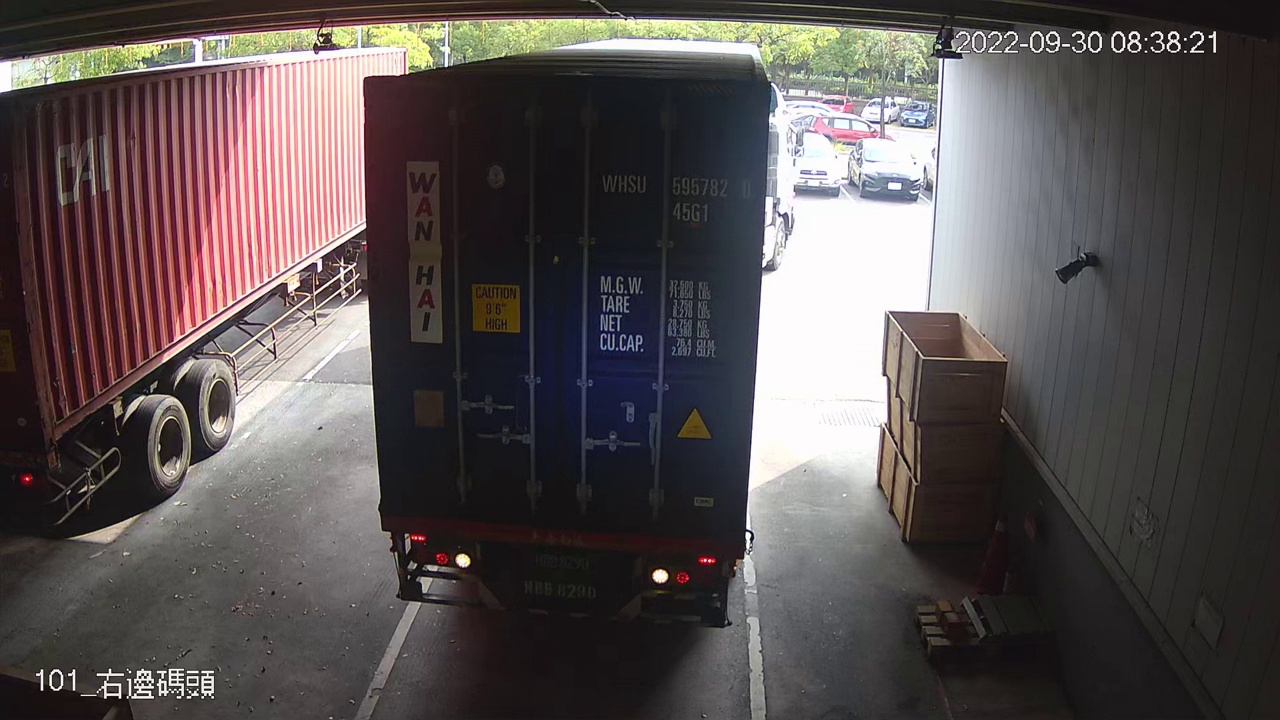container: (596, 166, 758, 230)
